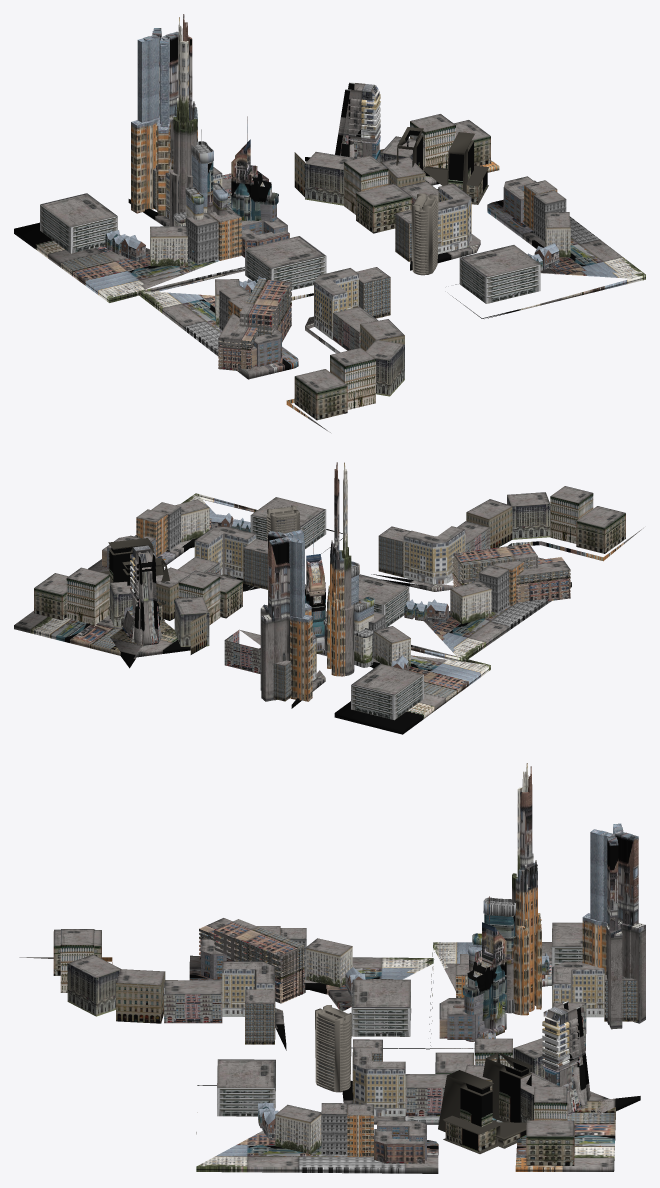
File: The City.obj
3 views of the same model, one above another, from view 1: azimuth 30°, elevation 25°; view 2: azimuth 150°, elevation 25°; view 3: azimuth 270°, elevation 25° (orthographic). The views are drawn at different scales.
Parts seen in each view (by area): view 1: mesh01 Mesh Mesh Mesh, bldgs2 Mesh Mesh Mesh; view 2: mesh01 Mesh Mesh Mesh, bldgs2 Mesh Mesh Mesh; view 3: mesh01 Mesh Mesh Mesh, bldgs2 Mesh Mesh Mesh.
Boxes of the visible parts, x1,y1,x2,y2 form: mesh01 Mesh Mesh Mesh: (14,114,645,432); bldgs2 Mesh Mesh Mesh: (131,14,488,371); mesh01 Mesh Mesh Mesh: (14,486,643,734); bldgs2 Mesh Mesh Mesh: (100,462,570,701); mesh01 Mesh Mesh Mesh: (19,922,640,1173); bldgs2 Mesh Mesh Mesh: (199,763,645,1153).
Bounding box in the file's own units: 1688 × 848 × 1990.
Materials: 2 (2 with a texture image).
